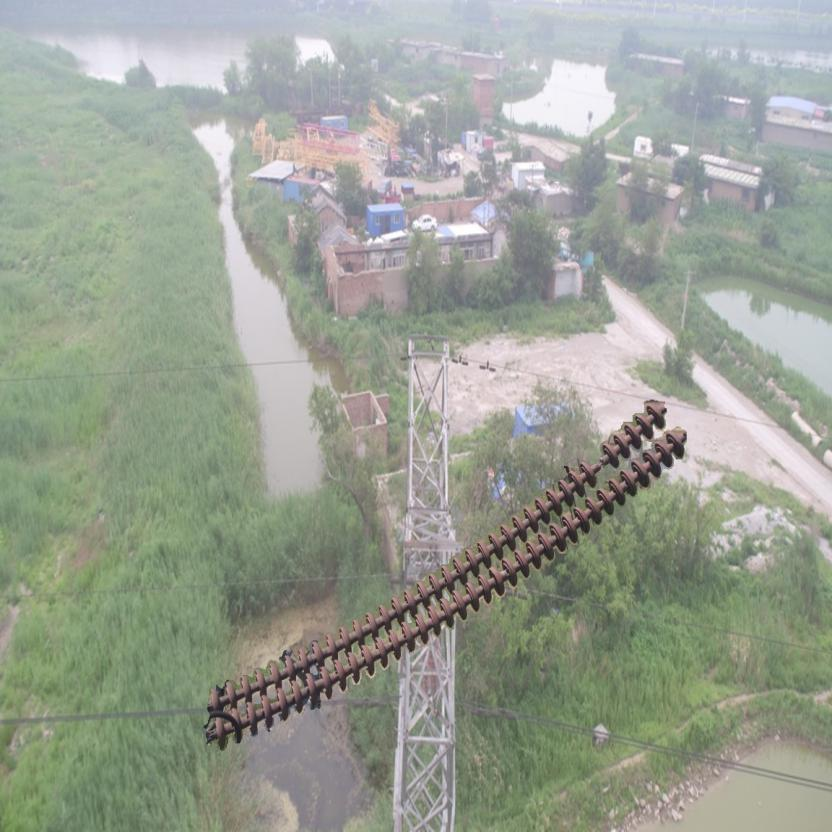defect: (582, 436, 620, 488)
